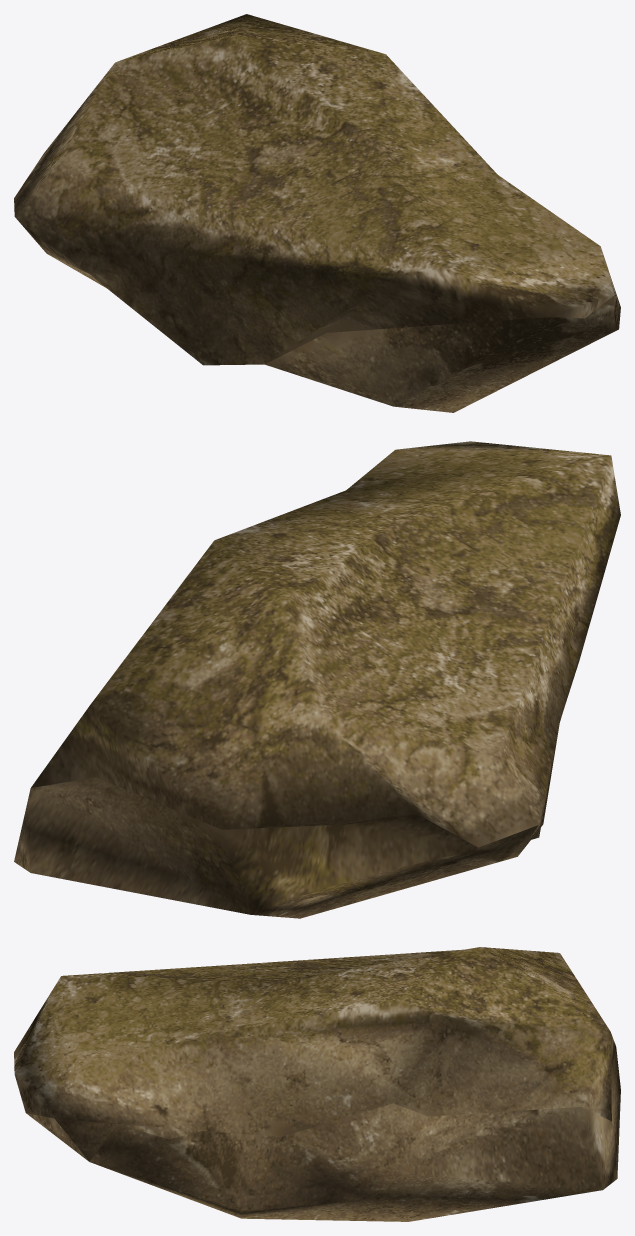
The model's file is SM_GLG_Rock_01_A.glb.
The picture shows the model from 3 angles, top to bottom: view 1: azimuth 30°, elevation 25°; view 2: azimuth 150°, elevation 25°; view 3: azimuth 270°, elevation 25°; orthographic projection. The views are drawn at different scales.
Visible parts, largest first — view 1: SM_GLG_Rock_01_A; view 2: SM_GLG_Rock_01_A; view 3: SM_GLG_Rock_01_A.
Part boxes in pixels (x1,y1,x2,y2): SM_GLG_Rock_01_A: (14,14,620,412); SM_GLG_Rock_01_A: (14,441,620,918); SM_GLG_Rock_01_A: (14,947,620,1221).
Bounding box in the file's own units: 1.5 × 1 × 2.37.
Materials: 1 (1 with a texture image).
